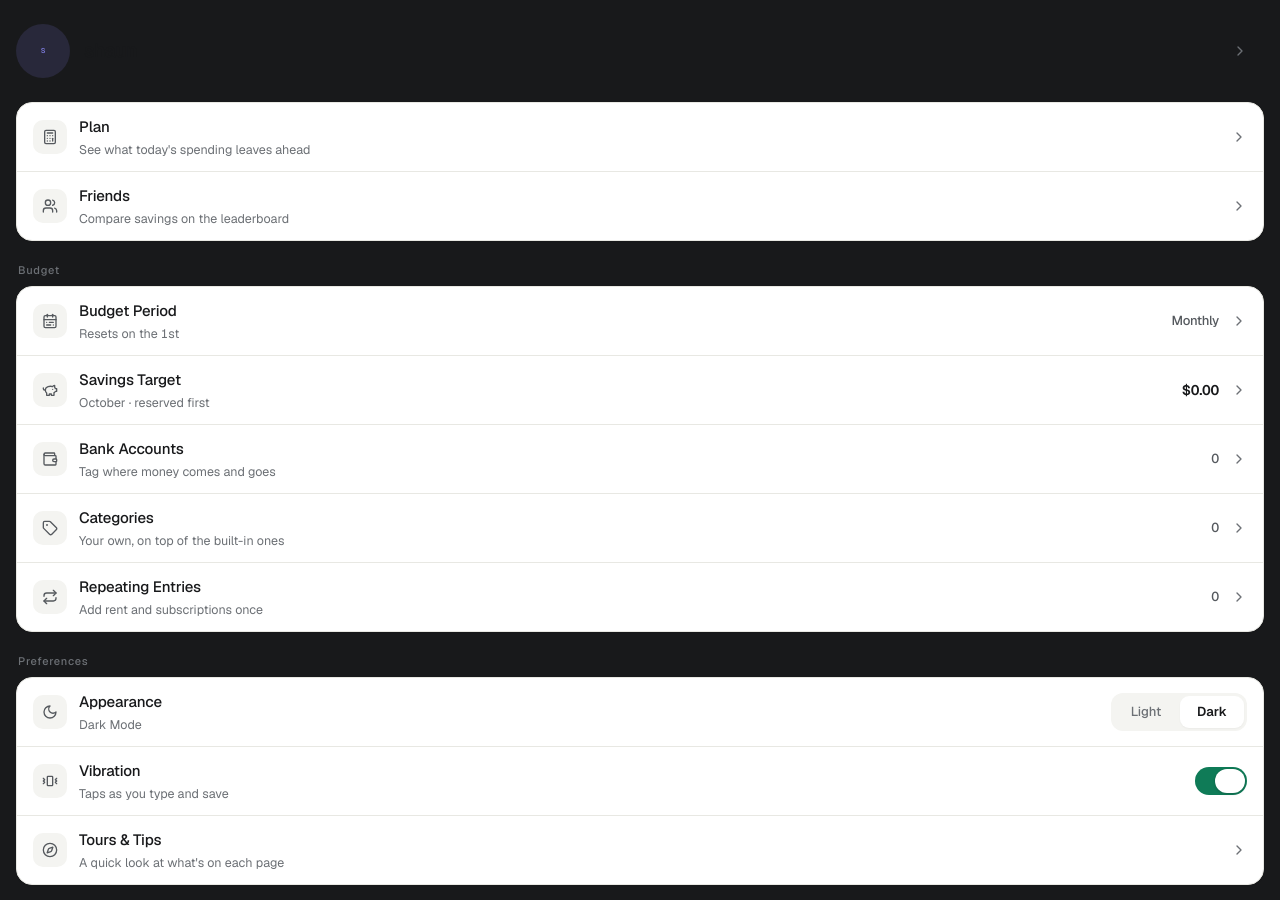
it: the savings target sheet › keeps reserving from income in month mode
This screenshot has width=1280, height=900.
Click the button "Savings Target October · reserved first $0.00" at (50,390), box [17,355,1263,424]
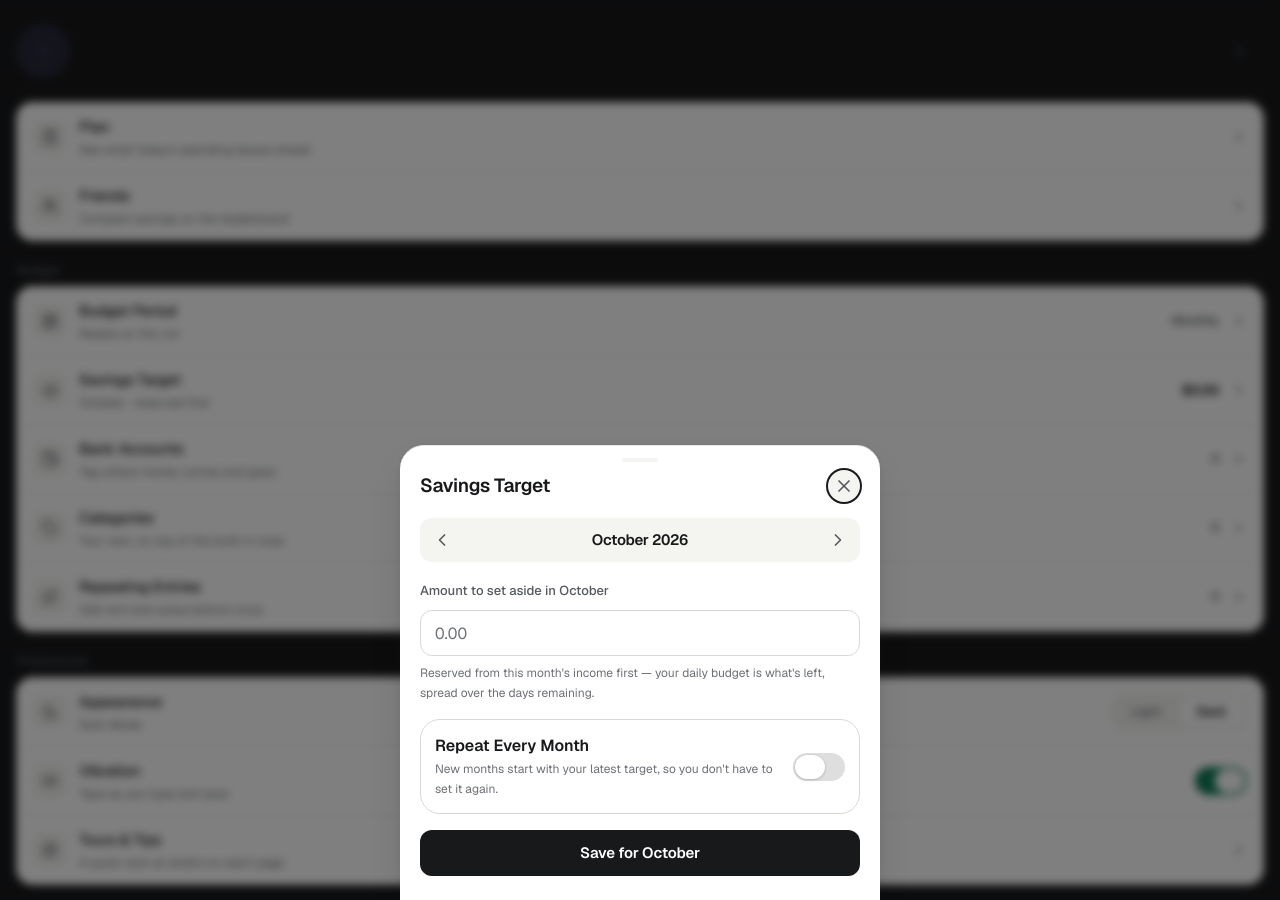
Expected: the dialog does not show "allowance", [400,445,880,899]
Expected: the dialog shows "Reserved from this month.s income first", [400,445,880,899]
